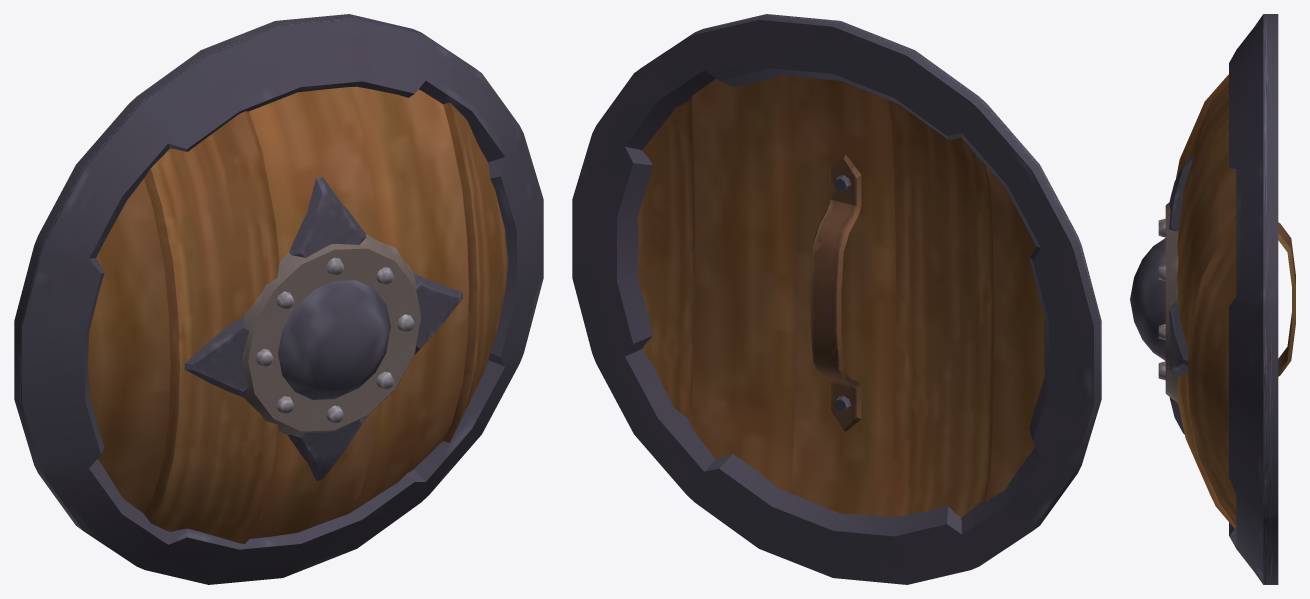
Rendered from shield.glb.
3 views of the same model, side by side, from view 1: azimuth 30°, elevation 25°; view 2: azimuth 150°, elevation 25°; view 3: azimuth 270°, elevation 25° (orthographic). The views are drawn at different scales.
Parts seen in each view (by area): view 1: Shield_Wooden; view 2: Shield_Wooden; view 3: Shield_Wooden.
Part boxes in pixels (x1=…): Shield_Wooden: x1=14, y1=14, x2=543, y2=584; Shield_Wooden: x1=572, y1=14, x2=1101, y2=584; Shield_Wooden: x1=1130, y1=14, x2=1295, y2=584.
Size of the model in its own units: 0.6146 by 0.6209 by 0.1788.
Materials: 3 (3 with a texture image).
